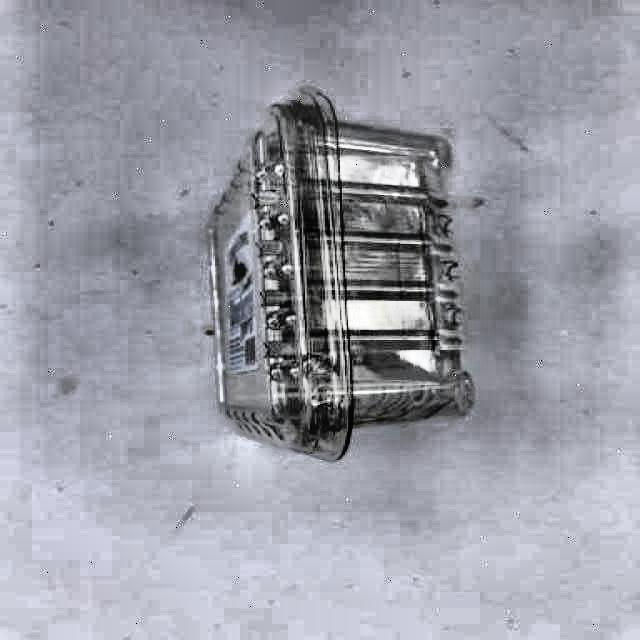plastic: (210, 89, 472, 459)
